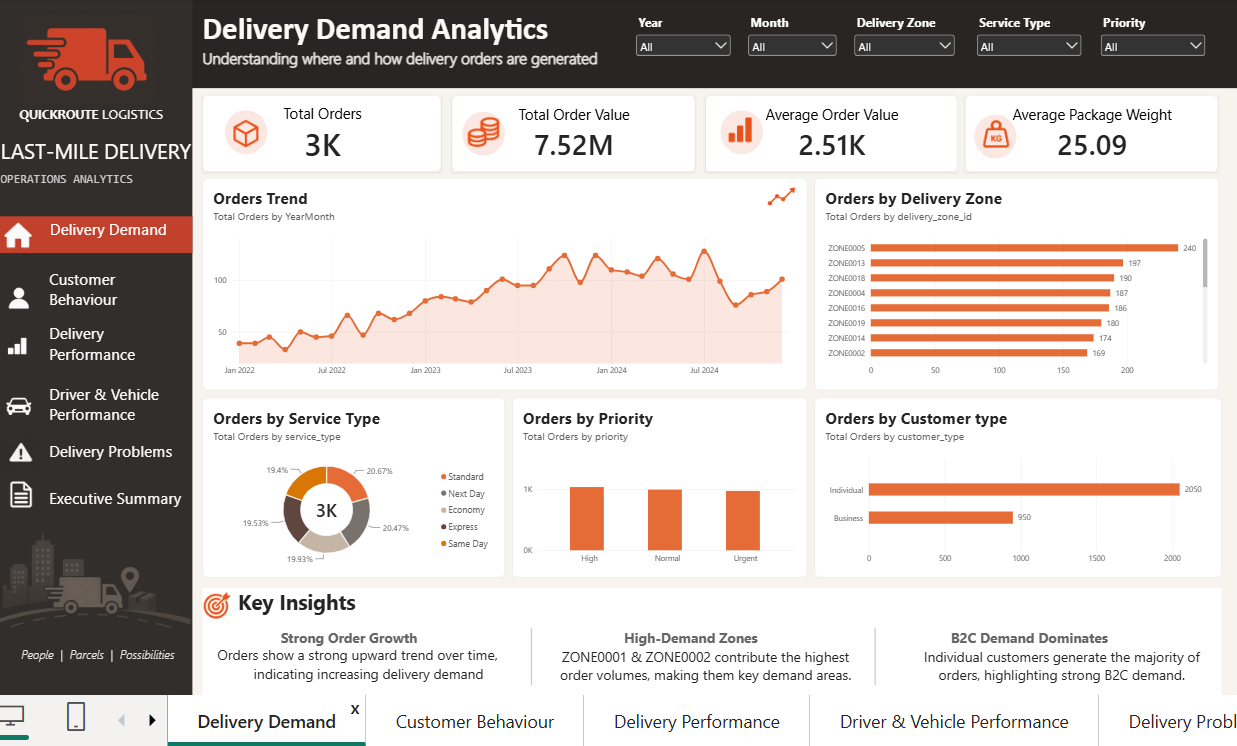

The dashboard page shown, as its layout file describes it:
{"tool":"powerbi","page":{"name":"Delivery Demand","canvas":[1920,1080],"ordinal":0},"visuals":[{"type":"shape","box":[0,0,1920,140],"z":0},{"type":"textbox","box":[315.8,18.4,1604.2,122.2],"z":1000},{"type":"shape","box":[0,0,299.6,1081],"z":2000},{"type":"textbox","box":[25.1,166.8,235.4,38.9],"z":3000},{"type":"textbox","box":[0,338.2,299.4,57.1],"z":4000},{"type":"textbox","box":[77.7,418.2,221.7,84.6],"z":5000},{"type":"textbox","box":[77.7,502.8,221.7,86.8],"z":6000},{"type":"textbox","box":[77.7,596.5,221.7,70.8],"z":7000},{"type":"textbox","box":[77.7,685.6,221.7,54.8],"z":8000},{"type":"textbox","box":[77.7,758.8,221.7,45.7],"z":9000},{"type":"image","box":[0,596.5,297.1,484.5],"z":10000},{"type":"image","box":[13.7,25.1,246.8,139.4],"z":11000},{"type":"image","box":[9.1,740.5,50.3,52.6],"z":12000},{"type":"image","box":[0,338.2,59.4,57.1],"z":13000},{"type":"image","box":[2.3,516.5,52.6,43.4],"z":14000},{"type":"image","box":[2.3,596.5,57.1,70.8],"z":15000},{"type":"image","box":[6.9,443.4,48,41.1],"z":16000},{"type":"image","box":[0,667.3,66.3,73.1],"z":17000},{"type":"slicer","fields":{"Values":["date_table.Year"]},"box":[982.7,25.1,155.4,91.4],"z":18000},{"type":"slicer","fields":{"Values":["date_table.MonthName"]},"box":[1156.4,25.1,146.3,91.4],"z":19000},{"type":"slicer","fields":{"Values":["orders (1).delivery_zone_id"]},"box":[1321,25.1,164.5,102.8],"z":20000},{"type":"slicer","fields":{"Values":["orders (1).service_type"]},"box":[1510.7,25.1,171.4,102.8],"z":21000},{"type":"slicer","fields":{"Values":["orders (1).priority"]},"box":[1702.6,25.1,171.4,102.8],"z":22000},{"type":"cardVisual","fields":{"Data":["_Measures (2).Total Orders"]},"box":[315.4,150.8,370.2,118.8],"z":23000},{"type":"cardVisual","fields":{"Data":["_Measures (2).Total Order Value"]},"box":[701.6,150.8,377.1,118.8],"z":24000},{"type":"cardVisual","fields":{"Data":["_Measures (2).Average Order Value"]},"box":[1094.7,150.8,390.8,118.8],"z":25000},{"type":"cardVisual","fields":{"Data":["_Measures (2).Average Package Weight"]},"box":[1496.9,150.8,392,118.8],"z":26000},{"type":"barChart","title":"Orders by Delivery Zone","fields":{"Category":["orders (1).delivery_zone_id"],"Y":["_Measures (2).Total Orders"]},"box":[1263.8,278.8,626.2,329.1],"z":27000},{"type":"donutChart","title":"Orders by Service Type","fields":{"Category":["orders (1).service_type"],"Y":["_Measures (2).Total Orders"]},"box":[315.4,619.3,468.5,278.8],"z":28000},{"type":"clusteredColumnChart","title":"Orders by Priority","fields":{"Category":["orders (1).priority"],"Y":["_Measures (2).Total Orders"]},"box":[795.3,619.3,457,278.8],"z":29000},{"type":"barChart","title":"Orders by Customer type","fields":{"Category":["customers (1).customer_type"],"Y":["_Measures (2).Total Orders"]},"box":[1263.8,619.3,630.8,278.8],"z":30000},{"type":"lineChart","title":"Orders Trend","fields":{"Category":["date_table.YearMonth"],"Y":["_Measures (2).Total Orders"]},"box":[315.4,278.8,937,329.1],"z":31000},{"type":"textbox","box":[2.3,214.8,336,93.7],"z":32000},{"type":"textbox","box":[34.3,1003.3,246.8,61.7],"z":33000},{"type":"shape","box":[349.7,173.7,66.3,68.6],"z":34000},{"type":"shape","box":[717.6,176,66.3,68.6],"z":35000},{"type":"shape","box":[1117.6,173.7,66.3,68.6],"z":36000},{"type":"shape","box":[1510.7,180.5,66.3,68.6],"z":37000},{"type":"image","box":[349.7,178.3,68.6,64],"z":38000},{"type":"image","box":[717.6,178.3,68.6,61.7],"z":39000},{"type":"image","box":[1117.6,166.8,68.6,77.7],"z":40000},{"type":"image","box":[1467.2,182.8,157.7,61.7],"z":41000},{"type":"image","box":[1183.8,278.8,57.1,59.4],"z":42000},{"type":"shape","box":[315.4,914.2,1579.2,166.8],"z":43000},{"type":"textbox","box":[370.2,914.2,208,61.7],"z":44000},{"type":"image","box":[299.4,914.2,75.4,61.7],"z":45000},{"type":"textbox","box":[436.5,975.9,249.1,59.4],"z":46000},{"type":"textbox","box":[338.2,1003.3,468.5,77.7],"z":47000},{"type":"shape","box":[758.8,975.9,132.6,89.1],"z":48000},{"type":"shape","box":[1291.3,975.9,132.6,89.1],"z":49000},{"type":"textbox","box":[852.5,975.9,438.8,52.6],"z":50000},{"type":"textbox","box":[852.5,1005.6,484.5,75.4],"z":51000},{"type":"textbox","box":[1403.2,975.9,386.2,52.6],"z":52000},{"type":"textbox","box":[1403.2,1005.6,486.8,59.4],"z":53000},{"type":"textbox","box":[2.3,269.7,278.8,38.9],"z":54000}]}

Visuals, with their boxes on the page's 1920x1080 design canvas (x1, y1, x2, y2). These are canvas units, not pixel positions in the 1237x746 screenshot, which may show the page scaled, cropped or inside an application window:
shape: pyautogui.locateOnScreen(0, 0, 1920, 140)
textbox: pyautogui.locateOnScreen(316, 18, 1920, 141)
shape: pyautogui.locateOnScreen(0, 0, 300, 1081)
textbox: pyautogui.locateOnScreen(25, 167, 260, 206)
textbox: pyautogui.locateOnScreen(0, 338, 299, 395)
textbox: pyautogui.locateOnScreen(78, 418, 299, 503)
textbox: pyautogui.locateOnScreen(78, 503, 299, 590)
textbox: pyautogui.locateOnScreen(78, 596, 299, 667)
textbox: pyautogui.locateOnScreen(78, 686, 299, 740)
textbox: pyautogui.locateOnScreen(78, 759, 299, 804)
image: pyautogui.locateOnScreen(0, 596, 297, 1081)
image: pyautogui.locateOnScreen(14, 25, 260, 164)
image: pyautogui.locateOnScreen(9, 740, 59, 793)
image: pyautogui.locateOnScreen(0, 338, 59, 395)
image: pyautogui.locateOnScreen(2, 516, 55, 560)
image: pyautogui.locateOnScreen(2, 596, 59, 667)
image: pyautogui.locateOnScreen(7, 443, 55, 484)
image: pyautogui.locateOnScreen(0, 667, 66, 740)
slicer - date_table.Year: pyautogui.locateOnScreen(983, 25, 1138, 116)
slicer - date_table.MonthName: pyautogui.locateOnScreen(1156, 25, 1303, 116)
slicer - orders (1).delivery_zone_id: pyautogui.locateOnScreen(1321, 25, 1486, 128)
slicer - orders (1).service_type: pyautogui.locateOnScreen(1511, 25, 1682, 128)
slicer - orders (1).priority: pyautogui.locateOnScreen(1703, 25, 1874, 128)
cardVisual - _Measures (2).Total Orders: pyautogui.locateOnScreen(315, 151, 686, 270)
cardVisual - _Measures (2).Total Order Value: pyautogui.locateOnScreen(702, 151, 1079, 270)
cardVisual - _Measures (2).Average Order Value: pyautogui.locateOnScreen(1095, 151, 1486, 270)
cardVisual - _Measures (2).Average Package Weight: pyautogui.locateOnScreen(1497, 151, 1889, 270)
"Orders by Delivery Zone" barChart: pyautogui.locateOnScreen(1264, 279, 1890, 608)
"Orders by Service Type" donutChart: pyautogui.locateOnScreen(315, 619, 784, 898)
"Orders by Priority" clusteredColumnChart: pyautogui.locateOnScreen(795, 619, 1252, 898)
"Orders by Customer type" barChart: pyautogui.locateOnScreen(1264, 619, 1895, 898)
"Orders Trend" lineChart: pyautogui.locateOnScreen(315, 279, 1252, 608)
textbox: pyautogui.locateOnScreen(2, 215, 338, 308)
textbox: pyautogui.locateOnScreen(34, 1003, 281, 1065)
shape: pyautogui.locateOnScreen(350, 174, 416, 242)
shape: pyautogui.locateOnScreen(718, 176, 784, 245)
shape: pyautogui.locateOnScreen(1118, 174, 1184, 242)
shape: pyautogui.locateOnScreen(1511, 180, 1577, 249)
image: pyautogui.locateOnScreen(350, 178, 418, 242)
image: pyautogui.locateOnScreen(718, 178, 786, 240)
image: pyautogui.locateOnScreen(1118, 167, 1186, 244)
image: pyautogui.locateOnScreen(1467, 183, 1625, 244)
image: pyautogui.locateOnScreen(1184, 279, 1241, 338)
shape: pyautogui.locateOnScreen(315, 914, 1895, 1081)
textbox: pyautogui.locateOnScreen(370, 914, 578, 976)
image: pyautogui.locateOnScreen(299, 914, 375, 976)
textbox: pyautogui.locateOnScreen(436, 976, 686, 1035)
textbox: pyautogui.locateOnScreen(338, 1003, 807, 1081)
shape: pyautogui.locateOnScreen(759, 976, 891, 1065)
shape: pyautogui.locateOnScreen(1291, 976, 1424, 1065)
textbox: pyautogui.locateOnScreen(852, 976, 1291, 1028)
textbox: pyautogui.locateOnScreen(852, 1006, 1337, 1081)
textbox: pyautogui.locateOnScreen(1403, 976, 1789, 1028)
textbox: pyautogui.locateOnScreen(1403, 1006, 1890, 1065)
textbox: pyautogui.locateOnScreen(2, 270, 281, 309)
